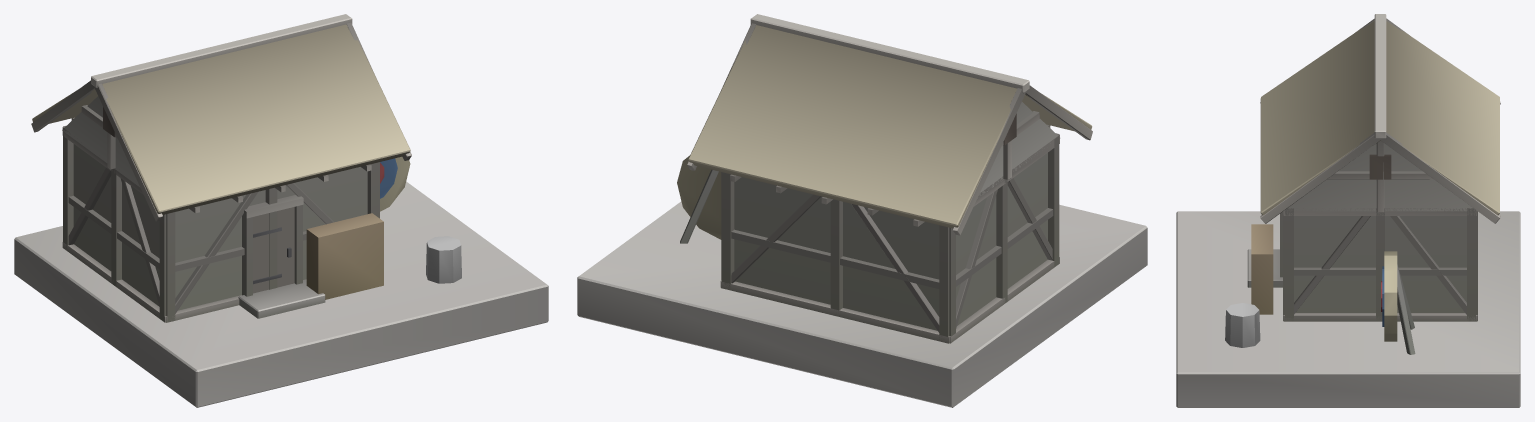
File: fletcher_l1_lod0.glb
3 renders of one model, left to right at view 1: azimuth 30°, elevation 25°; view 2: azimuth 150°, elevation 25°; view 3: azimuth 270°, elevation 25°, orthographic. The views are drawn at different scales.
Parts seen in each view (by area): view 1: fletcher_l1_lod0; view 2: fletcher_l1_lod0; view 3: fletcher_l1_lod0.
Part boxes in pixels (<box>): fletcher_l1_lod0: <box>14,14,548,407</box>; fletcher_l1_lod0: <box>577,14,1147,407</box>; fletcher_l1_lod0: <box>1176,14,1520,407</box>.
Bounding box in the file's own units: 7.8 × 5.28 × 7.
